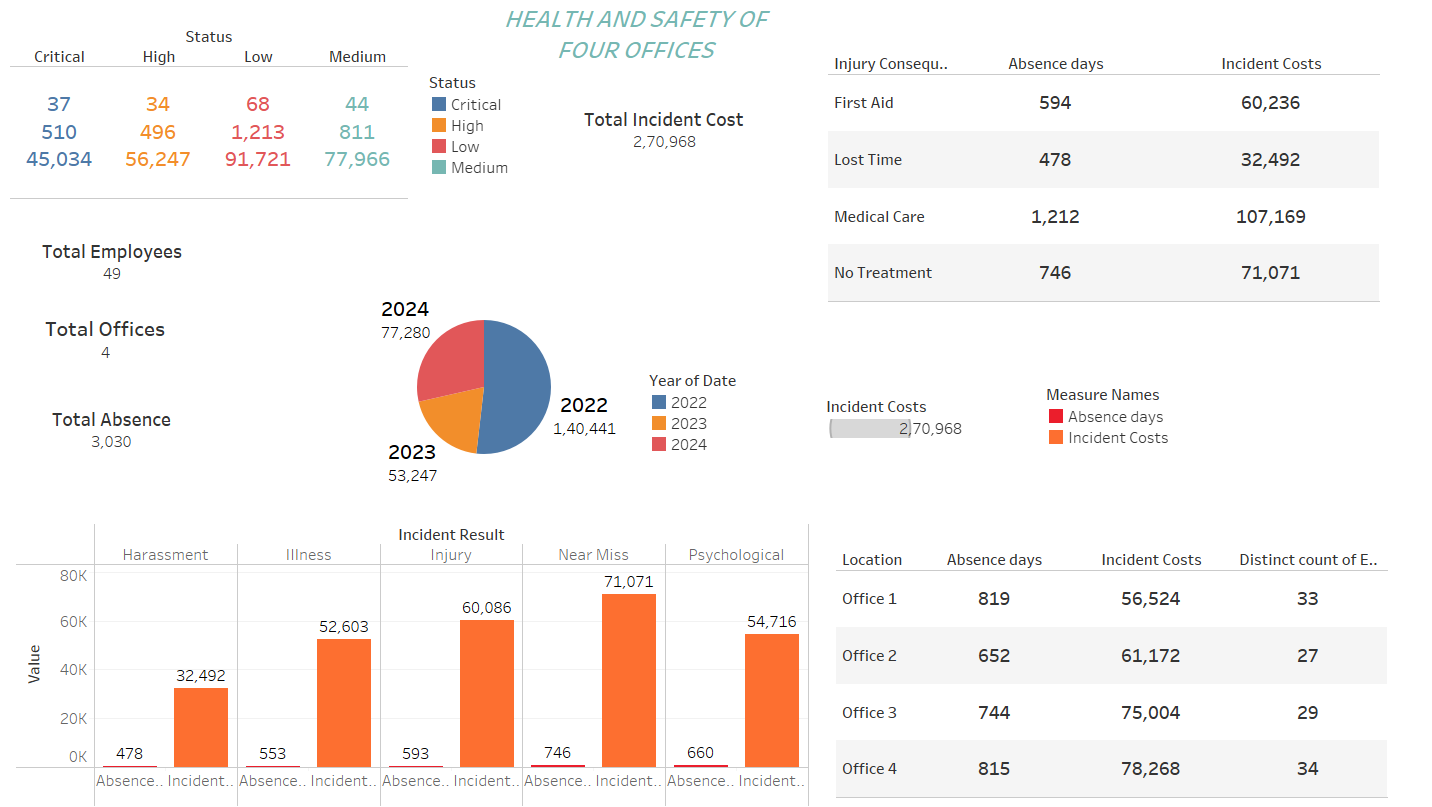

This screenshot's page, from the dashboard's own definition file:
{"tool":"tableau","page":{"name":"Dashboard 1","canvas":[1000,1000],"units":"permille","ordinal":0},"visuals":[{"type":"text","box":[298.1,23.5,200.4,84.6]},{"type":"worksheet","title":"Sheet 1","mark":"Automatic","cols":["Status"],"box":[19.9,38.8,240.2,220.9]},{"type":"worksheet","title":"Sheet 7","mark":"Automatic","rows":["Injury Consequence"],"box":[513.6,48.2,333.1,332.6]},{"type":"legend","title":"Sheet 1","param":"[federated.0xq30ic1ob43u116r4mba1wkjlta].[attr:Status:nk]","box":[272.8,110.5,84.5,124.6]},{"type":"worksheet","title":"Sheet 5","mark":"Automatic","box":[341.6,112.8,146.7,114]},{"type":"worksheet","title":"Sheet 2","mark":"Automatic","box":[16.3,276.2,131,97.5]},{"type":"worksheet","title":"Sheet 6","mark":"Pie","box":[139.4,305.5,333.1,332.6]},{"type":"worksheet","title":"Sheet 3","mark":"Automatic","box":[35.6,378.4,98.4,101.1]},{"type":"legend","title":"Sheet 6","param":"[federated.0xq30ic1ob43u116r4mba1wkjlta].[yr:Date:ok]","box":[405.6,460.6,84.5,99.9]},{"type":"legend","title":"Sheet 9","param":"[federated.0xq30ic1ob43u116r4mba1wkjlta].[:Measure Names]","box":[645.1,477.1,84.5,75.2]},{"type":"worksheet","title":"Sheet 4","mark":"Automatic","box":[18.1,481.8,126.7,79.9]},{"type":"legend","title":"Sheet 6","param":"[federated.0xq30ic1ob43u116r4mba1wkjlta].[sum:Incident Costs:qk]","box":[512.4,491.2,84.5,50.5]},{"type":"worksheet","title":"Sheet 9","mark":"Automatic","cols":["Incident Result"],"box":[23.5,624,478.6,351.4]},{"type":"worksheet","title":"Sheet 8","mark":"Automatic","rows":["Location"],"box":[518.4,631,333.1,332.6]}]}

Visuals, with their boxes on the dashboard's canvas, which has no fixed pixel size, in thousandths of its width and height (x1, y1, x2, y2). These are canvas units, not pixel positions in the 1432x807 screenshot, which may show the page scaled, cropped or inside an application window:
text: left=298, top=24, right=498, bottom=108
"Sheet 1" worksheet: left=20, top=39, right=260, bottom=260
"Sheet 7" worksheet: left=514, top=48, right=847, bottom=381
"Sheet 1" legend: left=273, top=110, right=357, bottom=235
"Sheet 5" worksheet: left=342, top=113, right=488, bottom=227
"Sheet 2" worksheet: left=16, top=276, right=147, bottom=374
"Sheet 6" worksheet (Pie marks): left=139, top=306, right=472, bottom=638
"Sheet 3" worksheet: left=36, top=378, right=134, bottom=480
"Sheet 6" legend: left=406, top=461, right=490, bottom=560
"Sheet 9" legend: left=645, top=477, right=730, bottom=552
"Sheet 4" worksheet: left=18, top=482, right=145, bottom=562
"Sheet 6" legend: left=512, top=491, right=597, bottom=542
"Sheet 9" worksheet: left=24, top=624, right=502, bottom=975
"Sheet 8" worksheet: left=518, top=631, right=852, bottom=964
